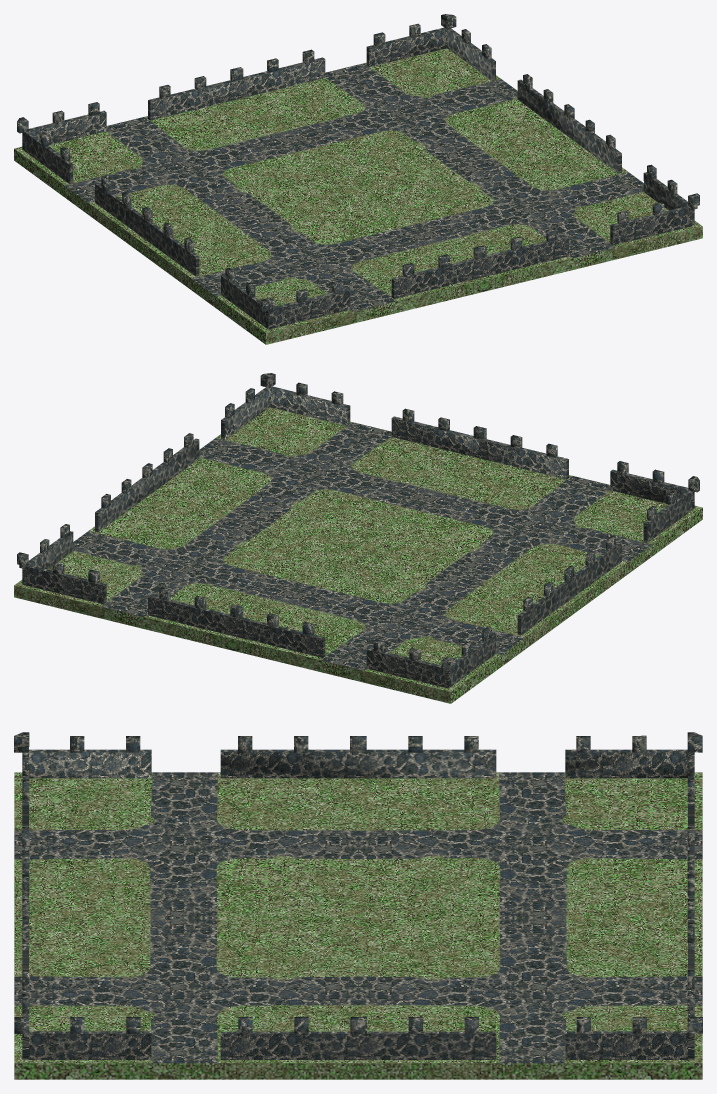
Rendered from new_park_tile.glb.
3 renders of one model, top to bottom at view 1: azimuth 30°, elevation 25°; view 2: azimuth 150°, elevation 25°; view 3: azimuth 270°, elevation 25°, orthographic. The views are drawn at different scales.
Parts seen in each view (by area): view 1: ground.001, wall.001, wall_nubs.002; view 2: ground.001, wall.001, wall_nubs.002; view 3: ground.001, wall.001, wall_nubs.002.
Boxes of the visible parts, box(x1,y1,x2,y2) form: ground.001: box(14, 48, 702, 344); wall.001: box(22, 27, 694, 329); wall_nubs.002: box(17, 14, 699, 312); ground.001: box(14, 407, 702, 703); wall.001: box(22, 386, 694, 688); wall_nubs.002: box(17, 373, 699, 671); ground.001: box(14, 772, 702, 1079); wall.001: box(22, 749, 694, 1059); wall_nubs.002: box(14, 732, 702, 1037).
Bounding box in the file's own units: 39.98 × 3.59 × 39.98.
2 materials, 2 textured.
